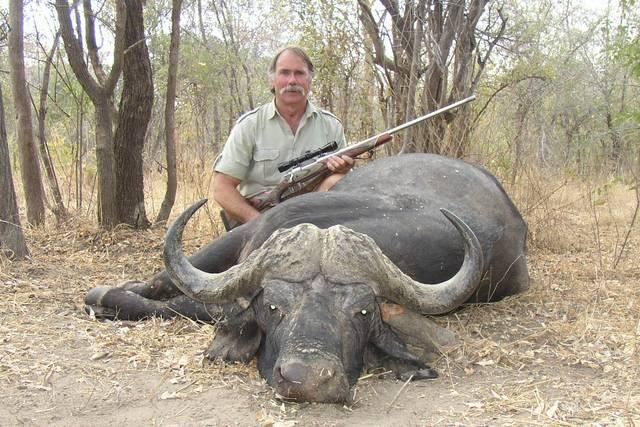Buffalo: (153, 200, 503, 427)
